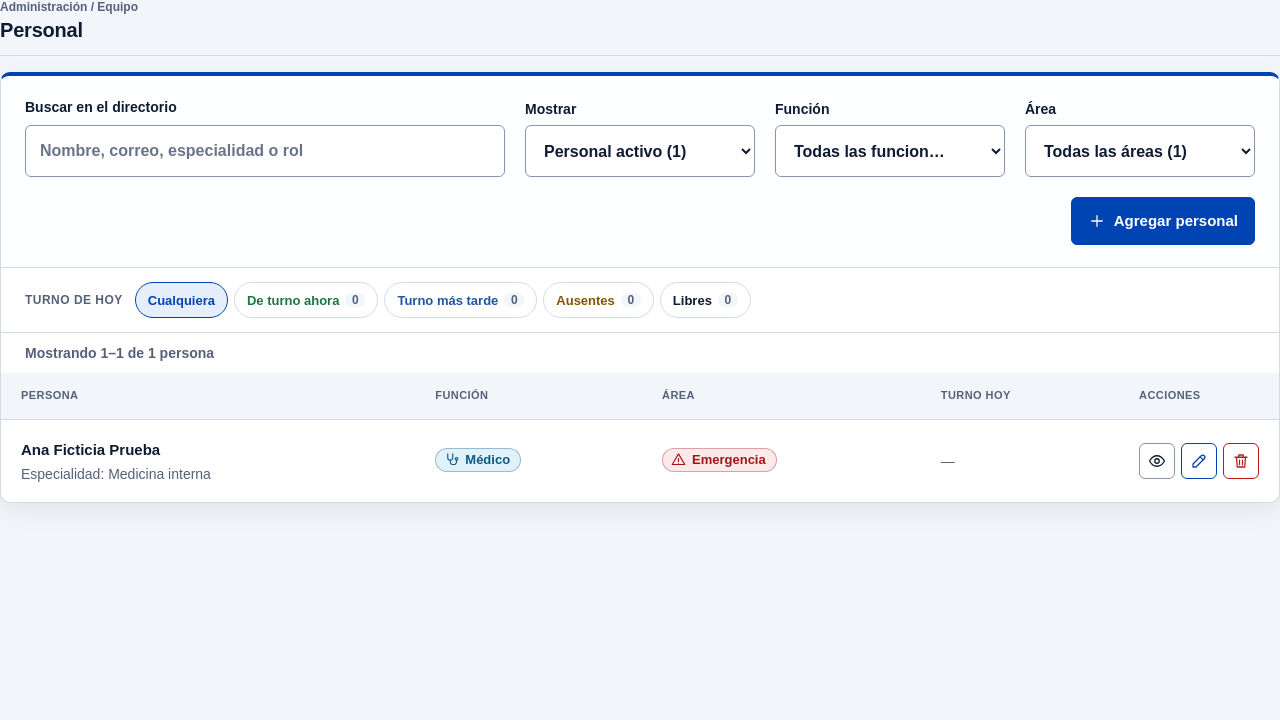
it: W07 · crear personal › antes de enviar rechaza nombres con números con un mensaje en español
Check: the text "Ana Ficticia Prueba" is shown, box [21,441,160,458]
Click the button "Agregar personal" at (1163, 221), box [1071,197,1255,245]
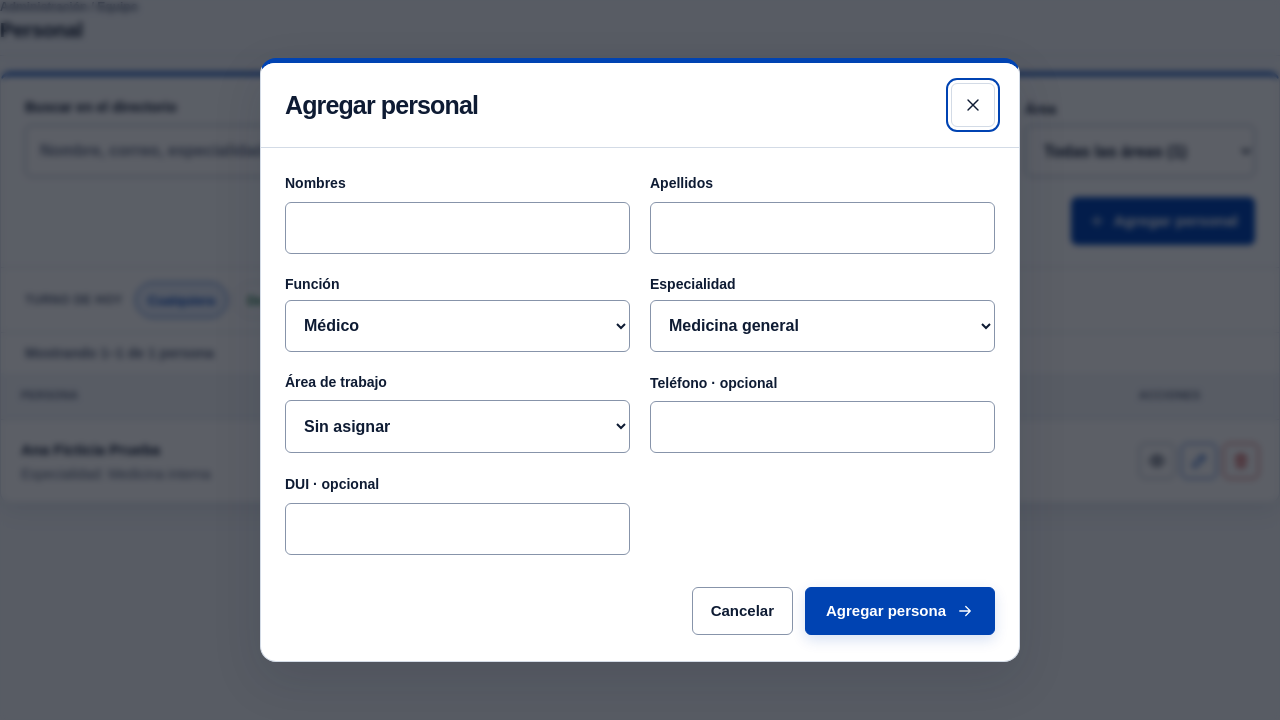
Type "María" into the field labelled "Nombres" at (458, 228), box [285,202,630,254]
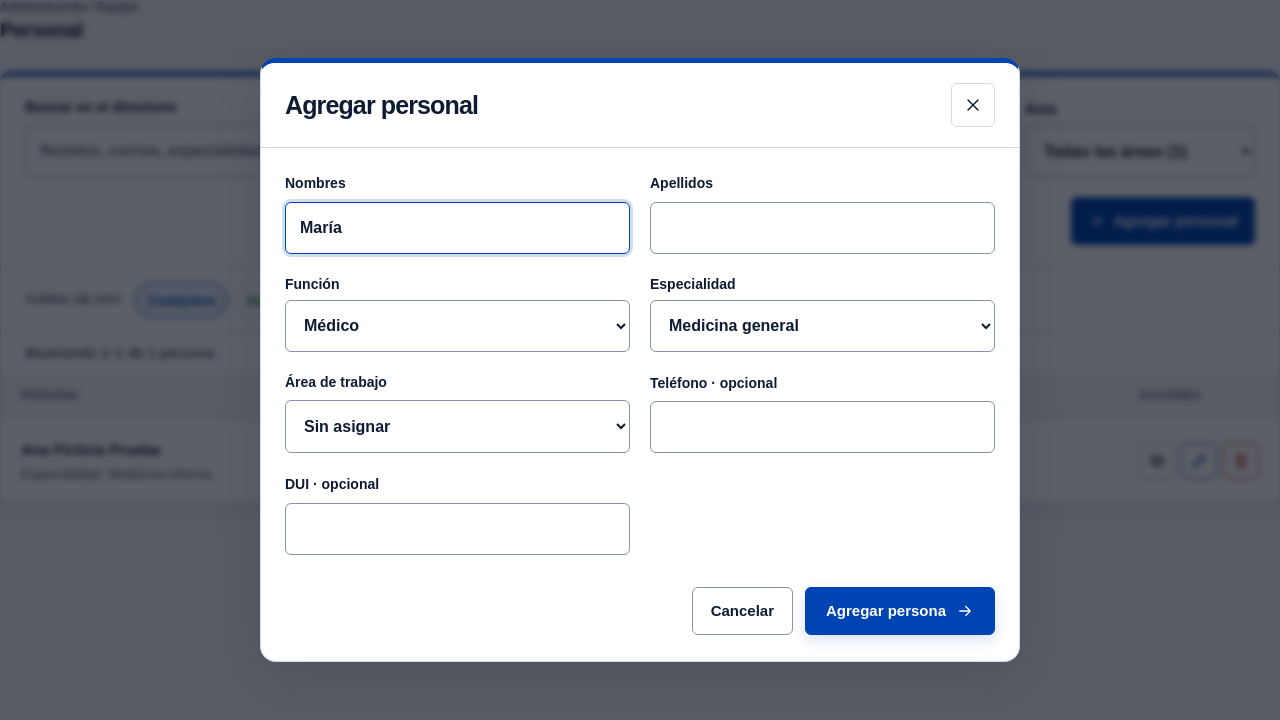
Type "Prueba" into the field labelled "Apellidos" at (822, 228), box [650,202,995,254]
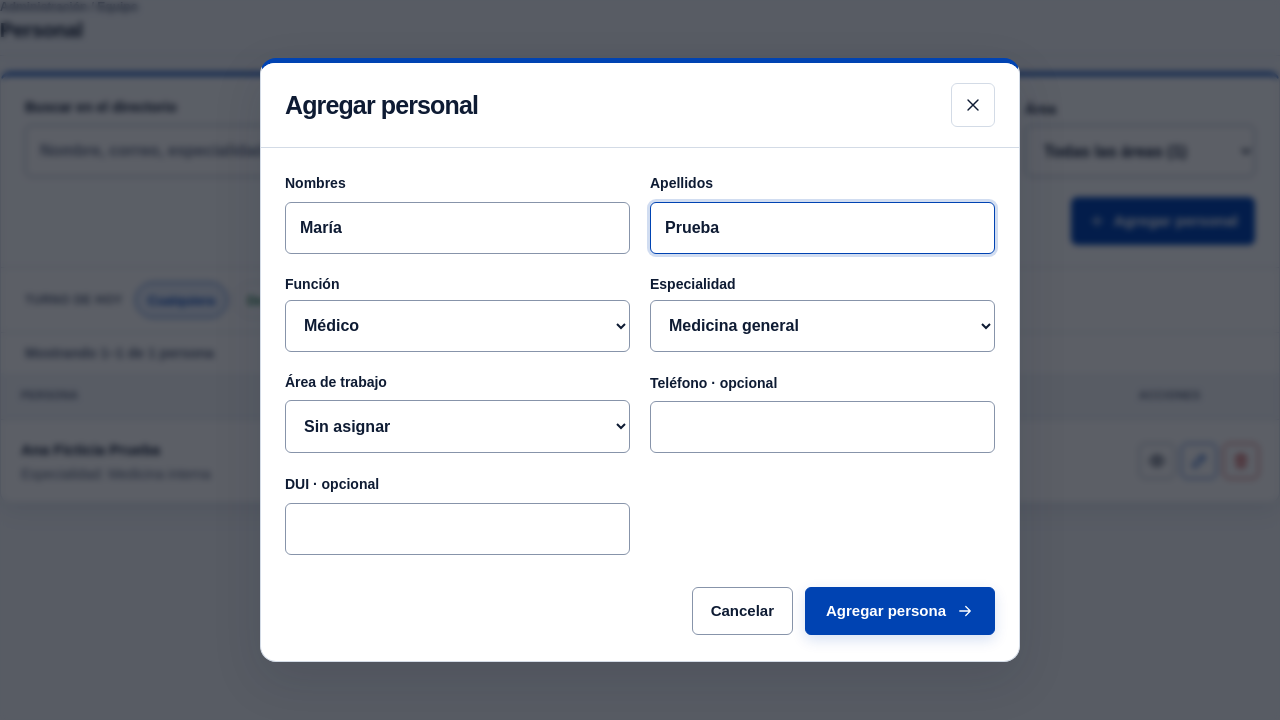
Replace the text in the field labelled "Nombres" with "Ana2" at (458, 228), box [285,202,630,254]
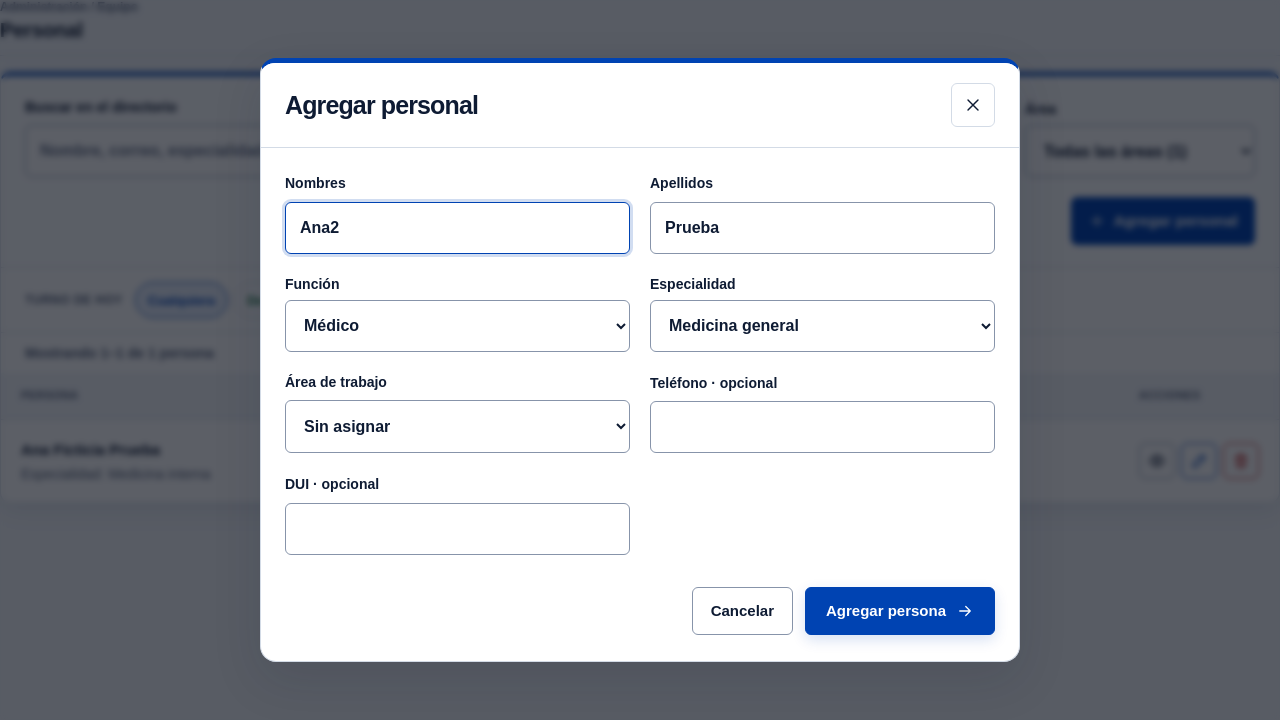
Click the button "Agregar persona" at (900, 611), box [805,587,995,635]
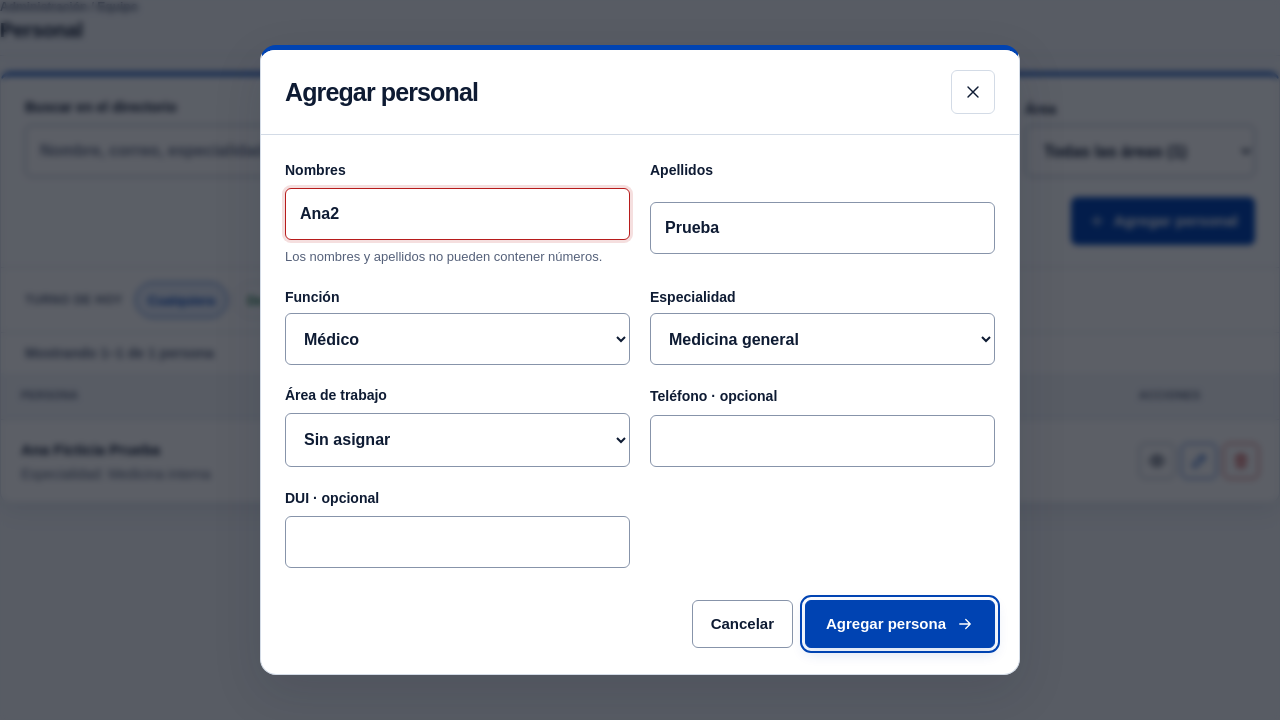
Check: the text "Los nombres y apellidos no pueden contener números." is shown, box [285,248,630,267]
